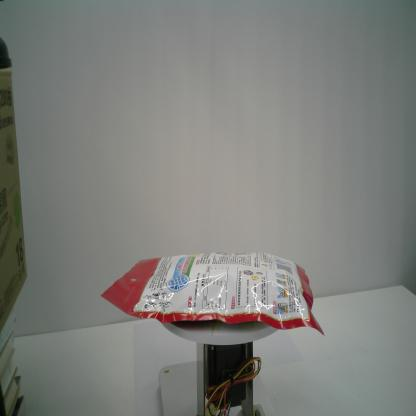Instant Drink: (100, 250, 326, 336)
